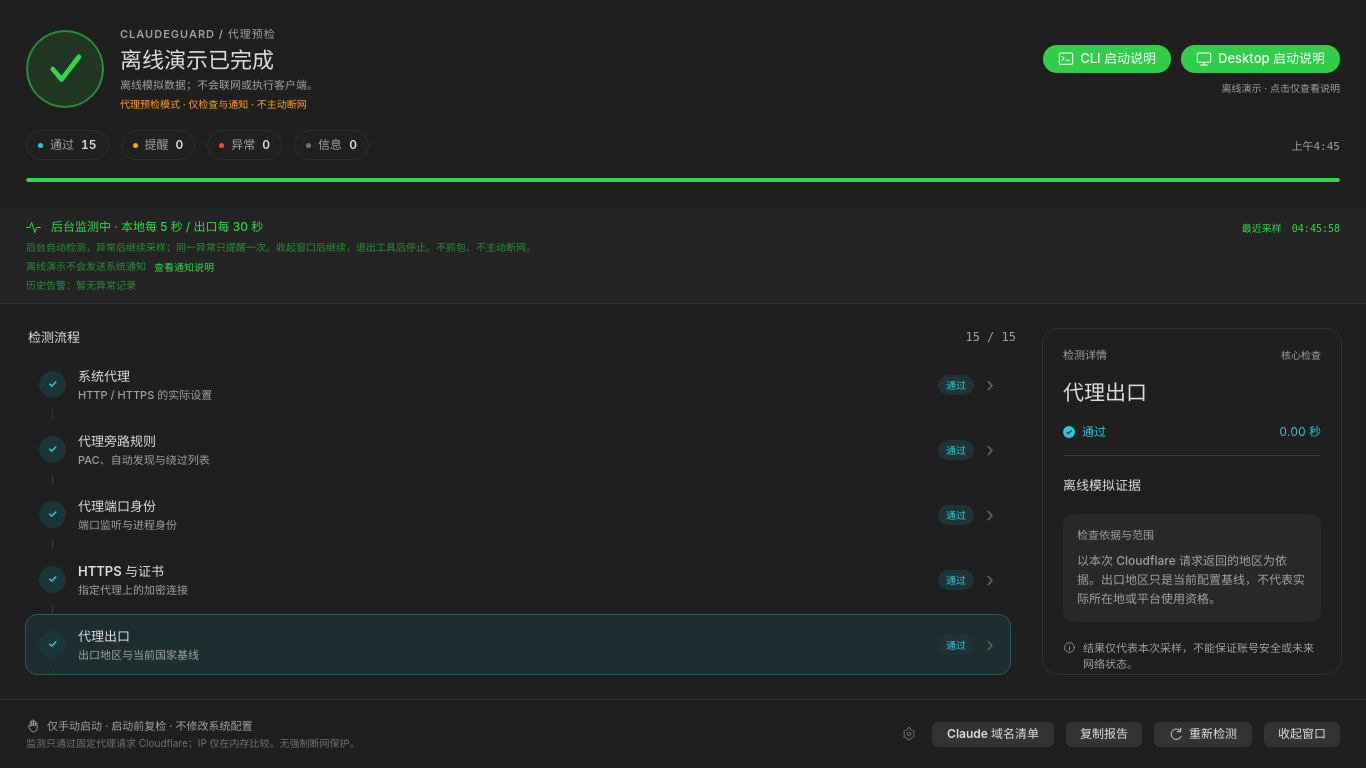
restores the original single-window layout and keeps diagnostics mounted under sheets
The width and height of the screenshot is (1366, 768).
Expected: the heading "离线演示已完成" is shown, [120, 47, 274, 73]
Expected: the element with class "hero-status" is shown, [26, 30, 104, 108]
Click the button named "设置" at [908, 734], box [897, 722, 920, 746]
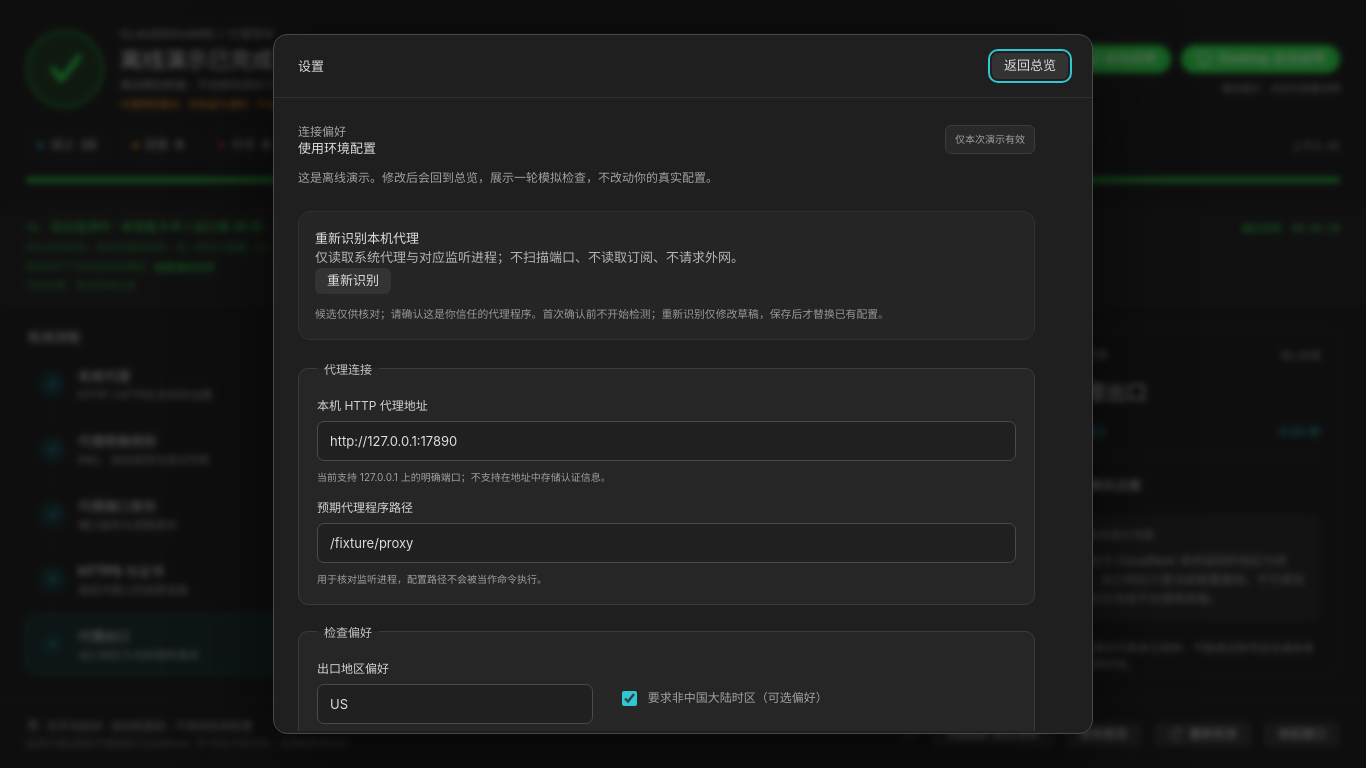
Click the button "返回总览" at [1030, 66], box [992, 53, 1068, 79]
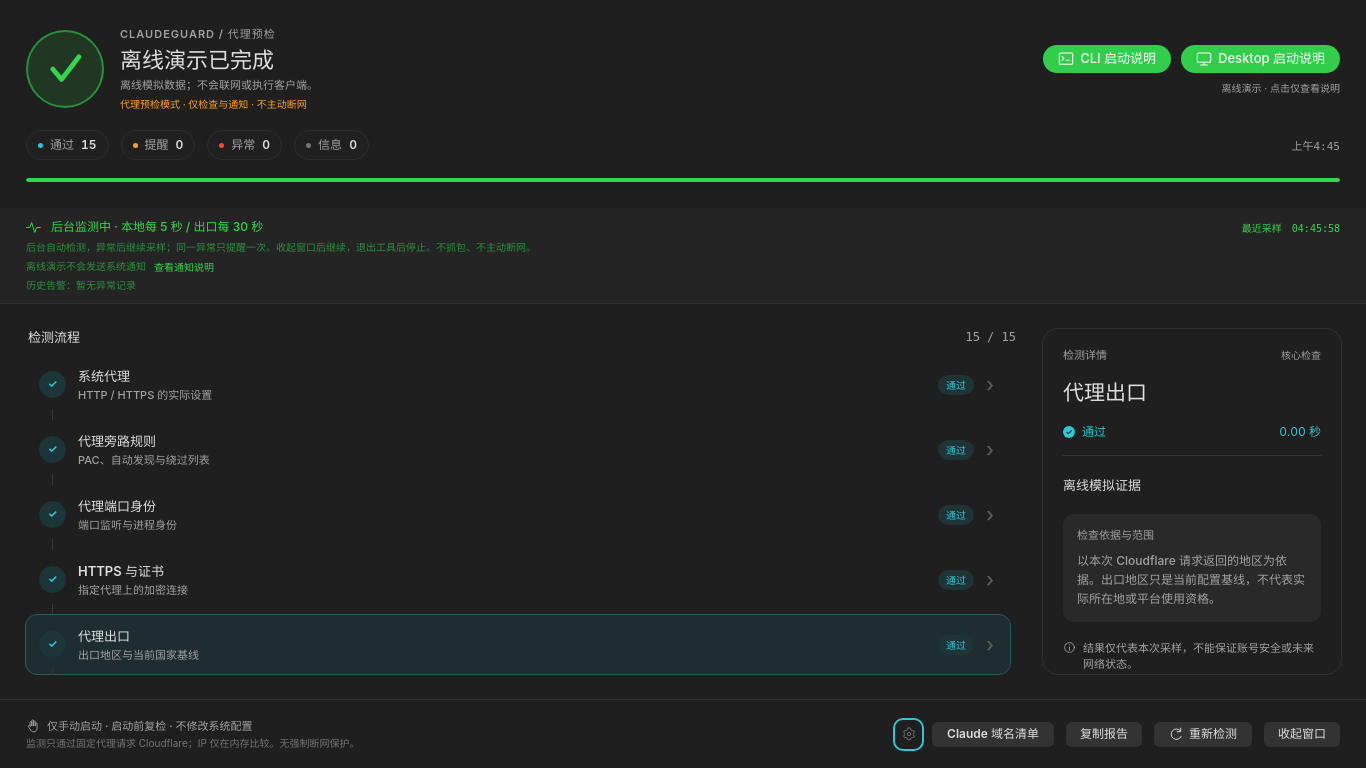
Expected: the dialog is gone
